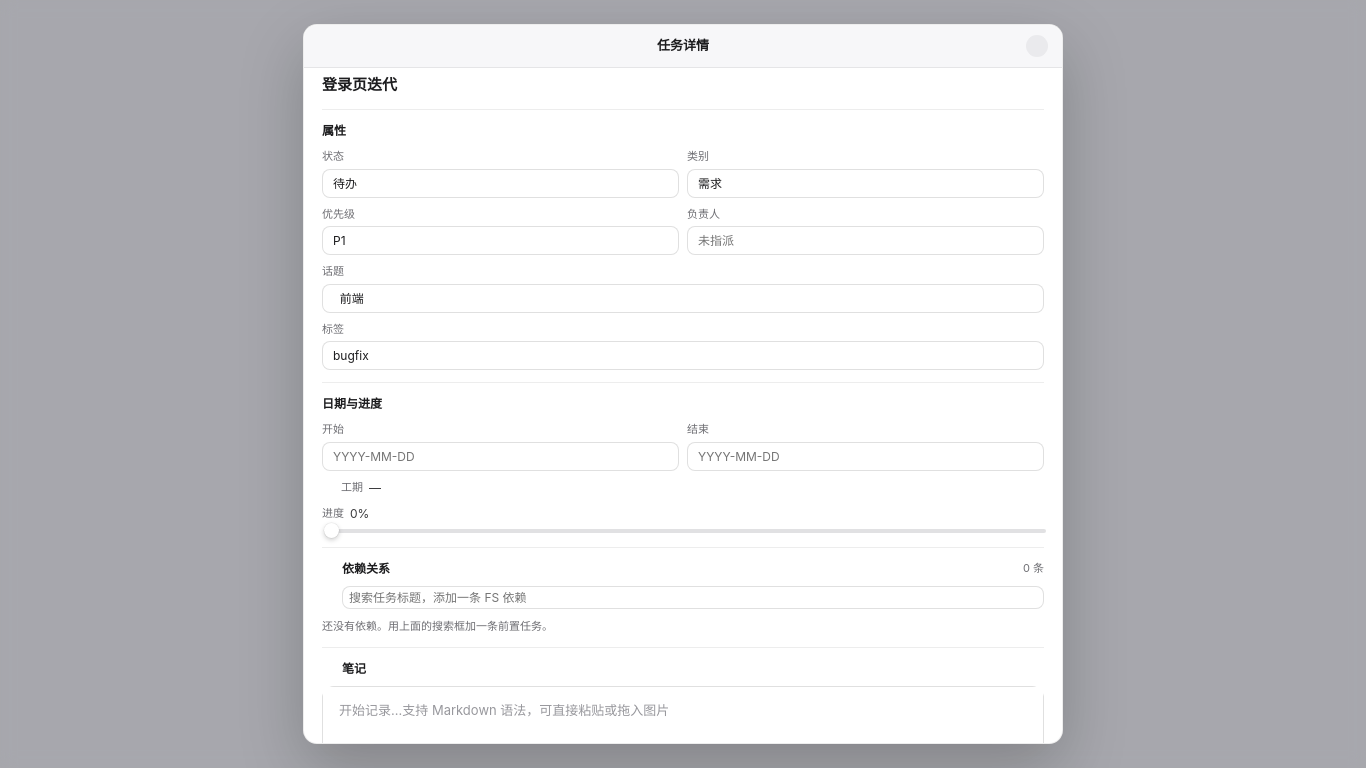
标题 inline 编辑 › Esc 取消编辑不写 store
Click the button with test id "drawer-title-display".
click(360, 84)  # box 322,72 -> 1044,97
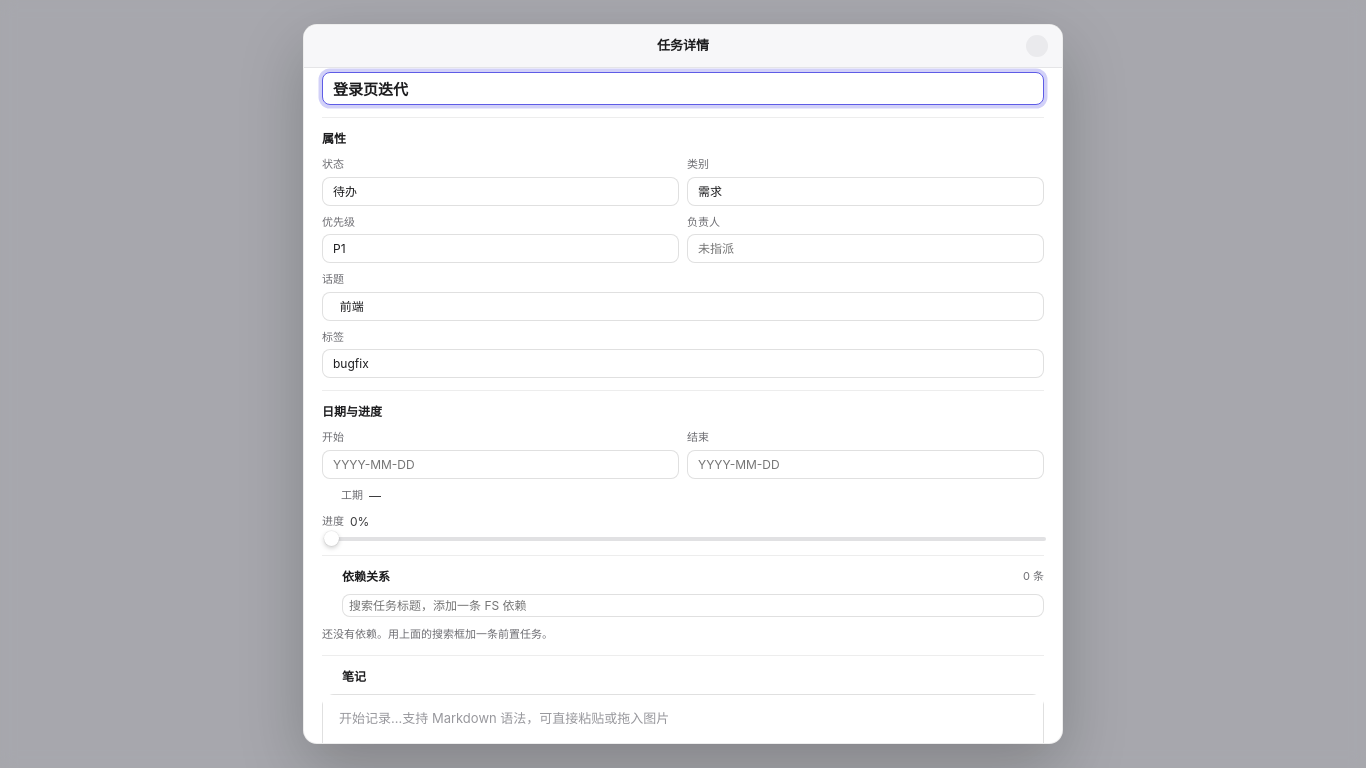
Replace the text in the field with test id "drawer-title-input" with "不该写进去" at (683, 88), box 322,72 -> 1044,105
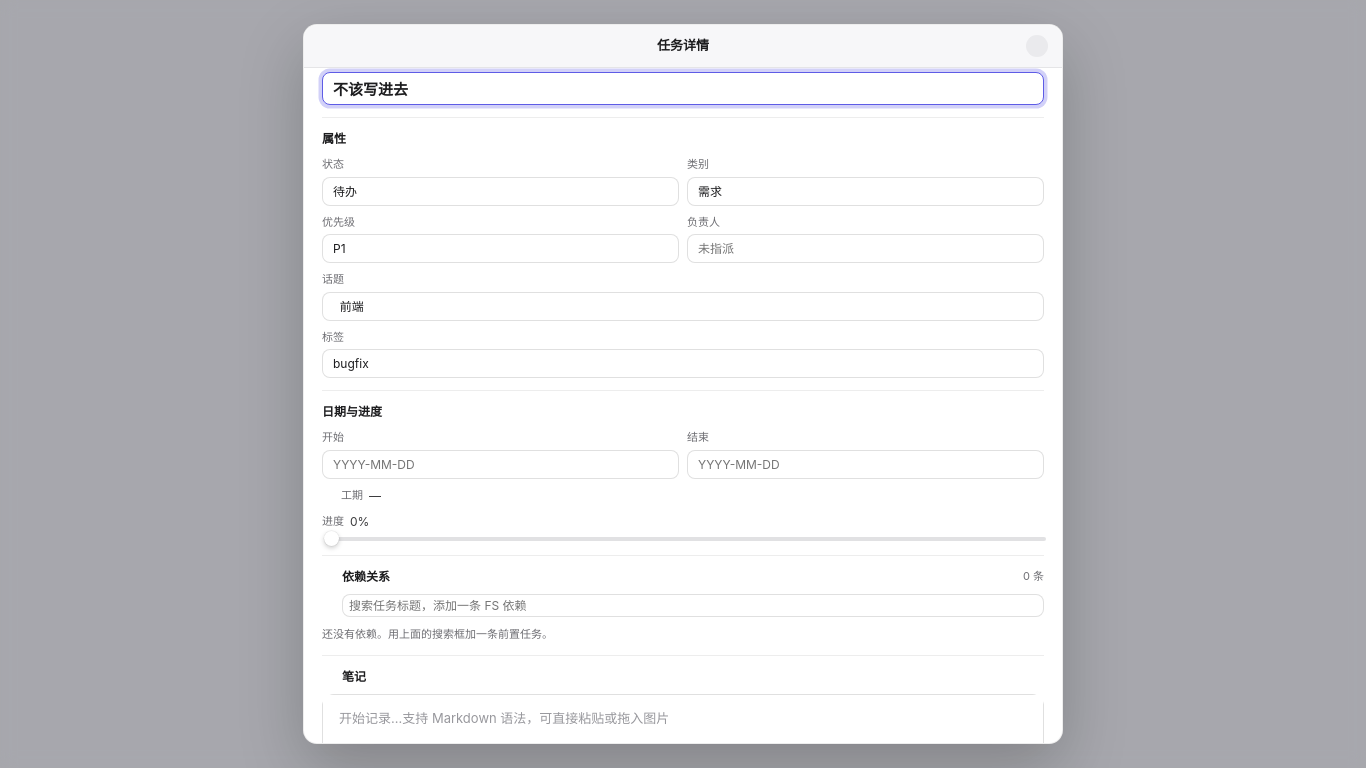
Press Escape in the field with test id "drawer-title-input", box 322,72 -> 1044,105
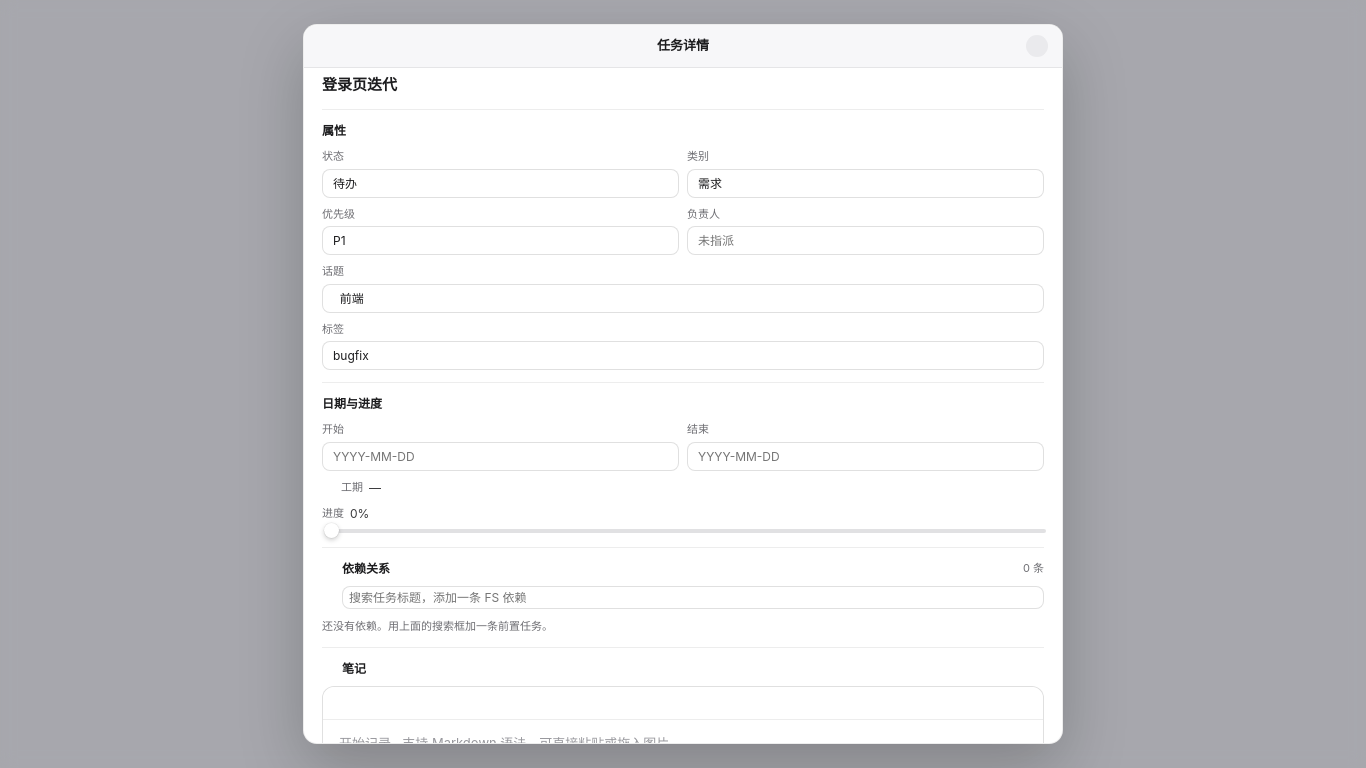
Expected: the button "登录页迭代" is shown, 322,72 -> 1044,97
